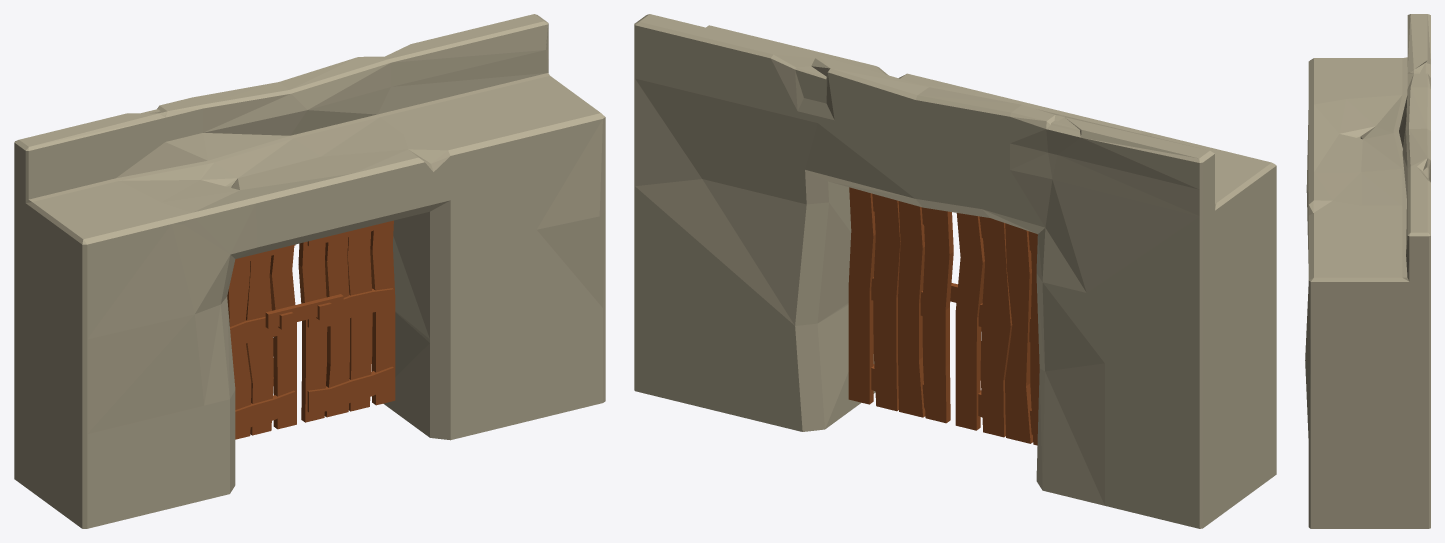
Rendered from Gate_small.fbx.
3 renders of one model, left to right at view 1: azimuth 30°, elevation 25°; view 2: azimuth 150°, elevation 25°; view 3: azimuth 270°, elevation 25°, orthographic. The views are drawn at different scales.
Parts seen in each view (by area): view 1: Gate_small, Door_small_L, Door_small_R, Door_Lock; view 2: Gate_small, Door_small_L, Door_small_R; view 3: Gate_small.
Boxes of the visible parts, box(x1,y1,x2,y2) form: Gate_small: box(14, 14, 605, 528); Door_small_L: box(298, 220, 395, 422); Door_small_R: box(227, 244, 296, 439); Door_Lock: box(265, 294, 343, 328); Gate_small: box(634, 14, 1276, 528); Door_small_L: box(848, 187, 953, 423); Door_small_R: box(955, 213, 1039, 445); Gate_small: box(1305, 14, 1430, 528).
Size of the model in its own units: 7.15 by 4.43 by 1.71.
